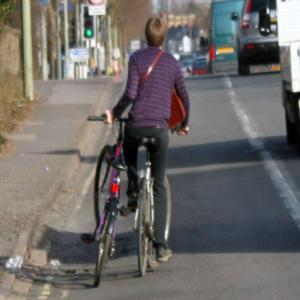Vehicle-registration-plate: (218, 47, 234, 55)
